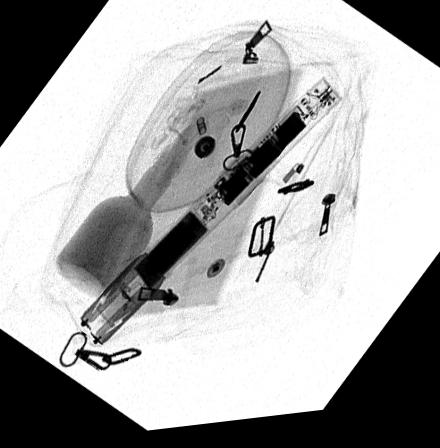Baton: (77, 84, 343, 348)
